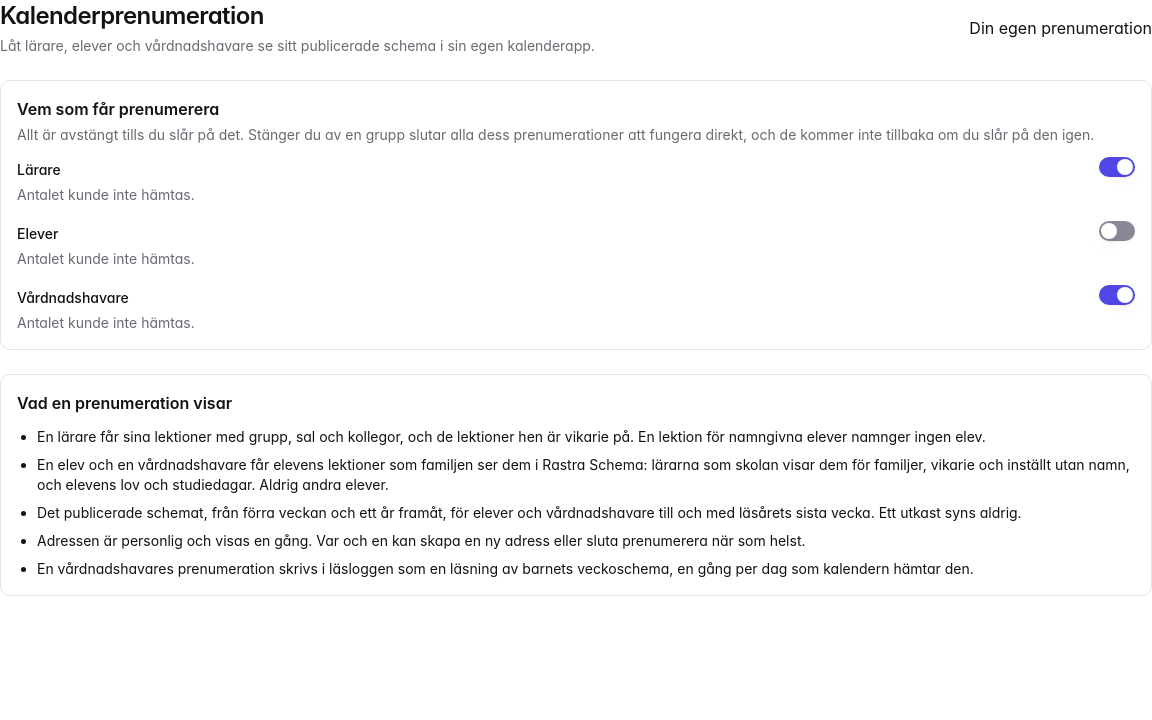
Scenario: /admin/calendar-feeds › says every feed stops when the count cannot be had
This screenshot has width=1152, height=720.
Check: the text "Antalet kunde inte hämtas." is shown 3 times, box [17,185,195,205]; [17,249,195,269]; [17,313,195,333]
Step 1. Click the 1st switch named "Lärare" → (1117, 167), box [1099,157,1135,177]
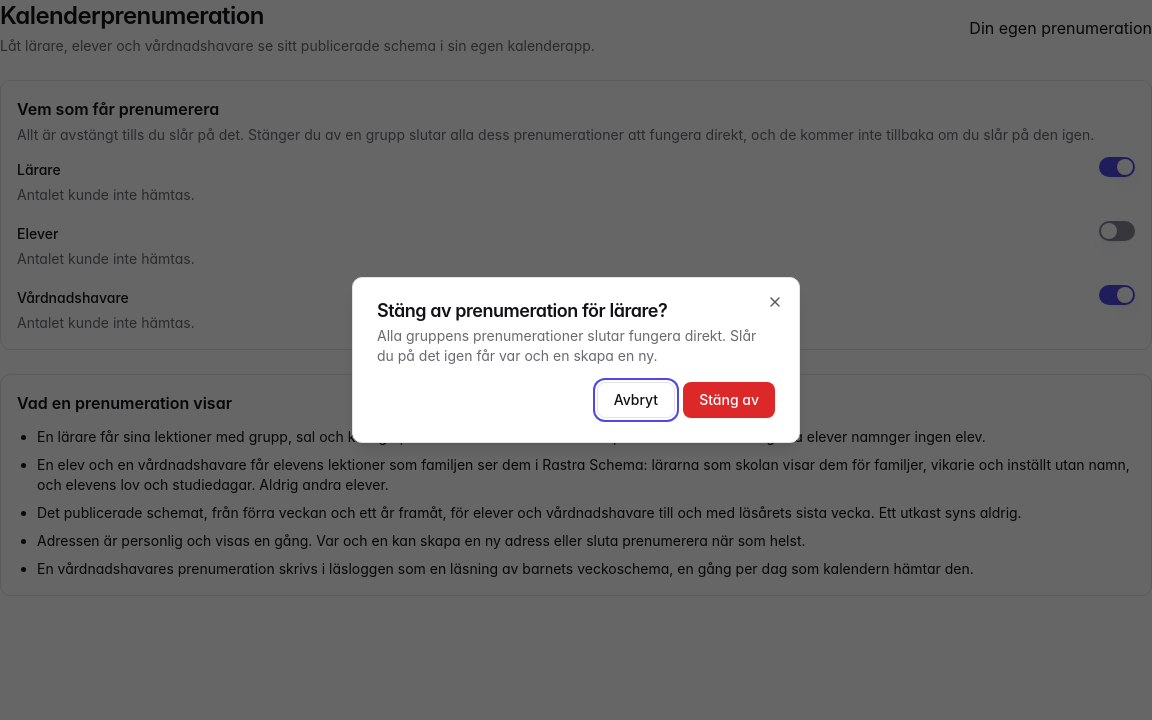
Check: the text "Alla gruppens prenumerationer slutar fungera direkt" is shown, box [377,327,756,364]
